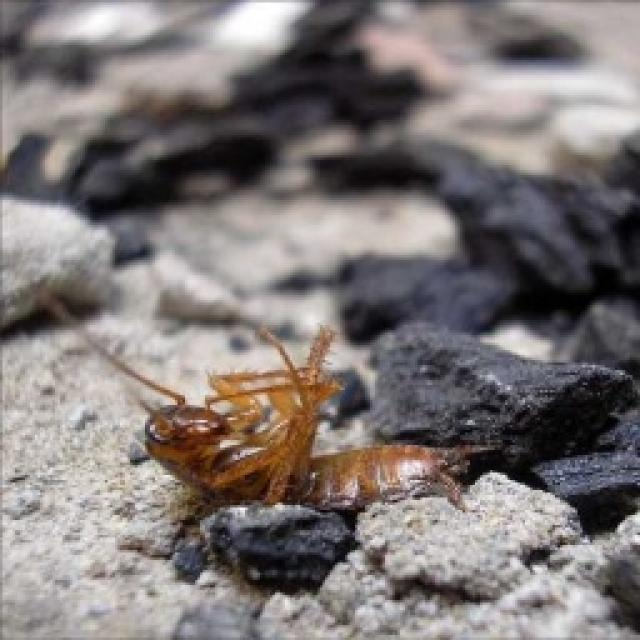cockroach: (108, 317, 504, 540)
